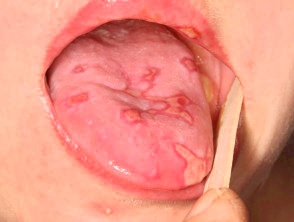SJS-TEN: (108, 65, 202, 127), (176, 48, 231, 108), (169, 134, 219, 191), (165, 13, 207, 45)
